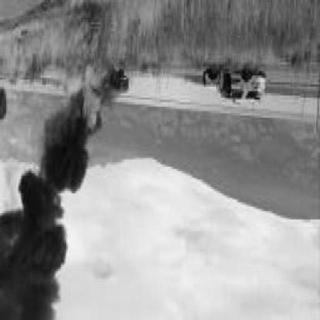Smoke: (1, 124, 85, 320)
